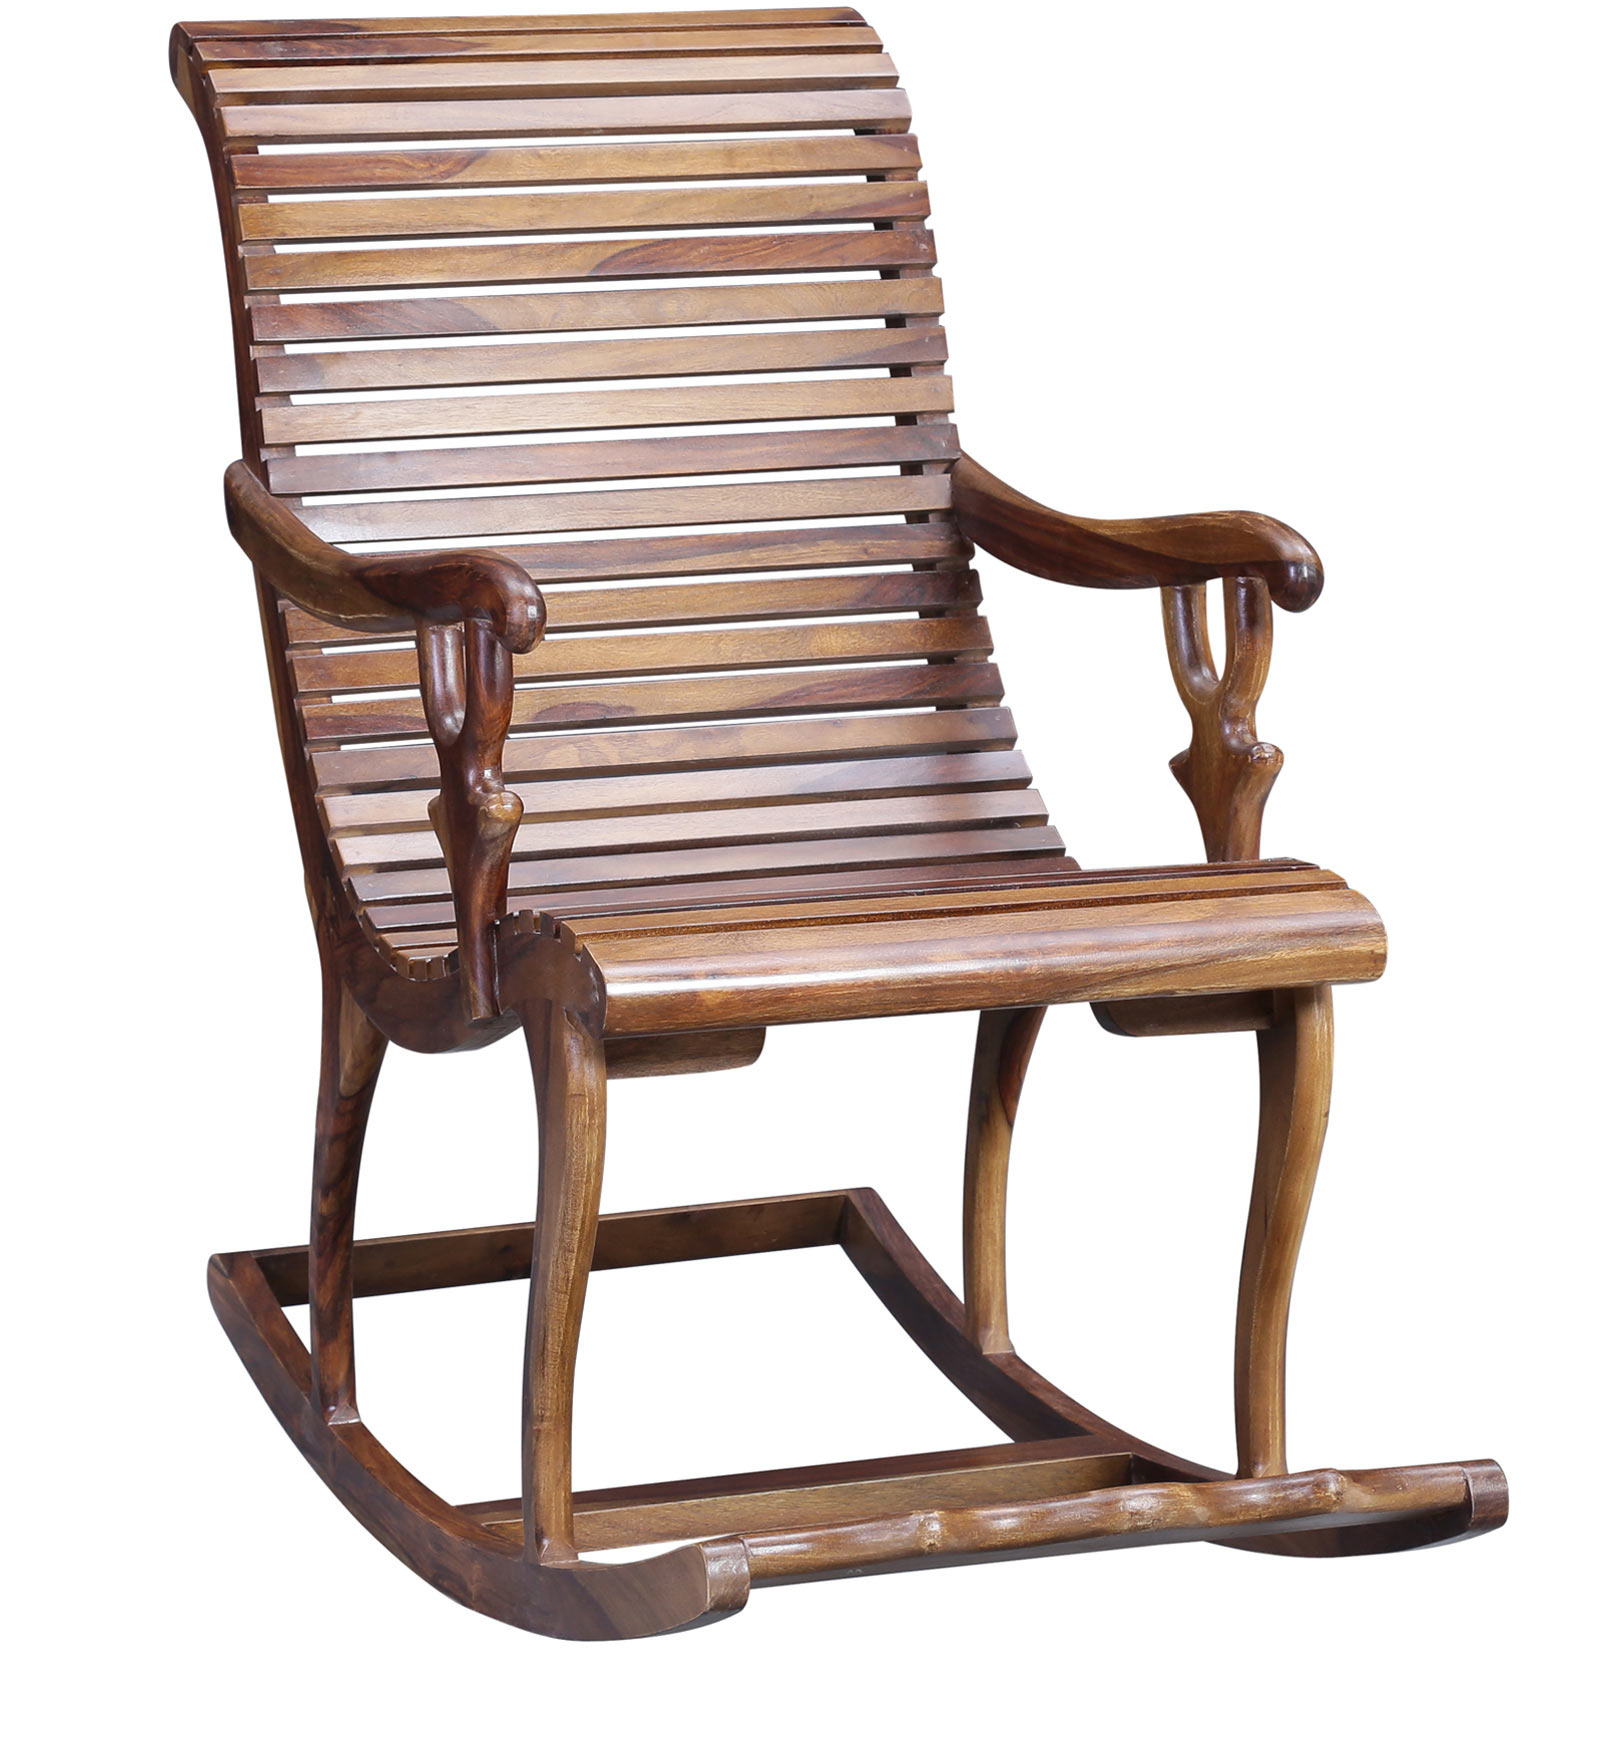Acklom Rocking Chair in Provincial Teak Finish by Amberville: (113, 2, 1560, 1674)
